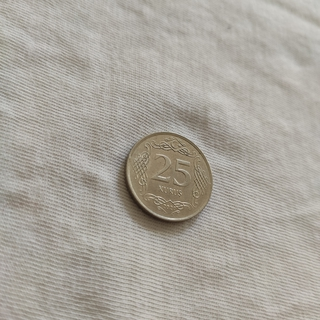25KURUS: (122, 130, 214, 224)
